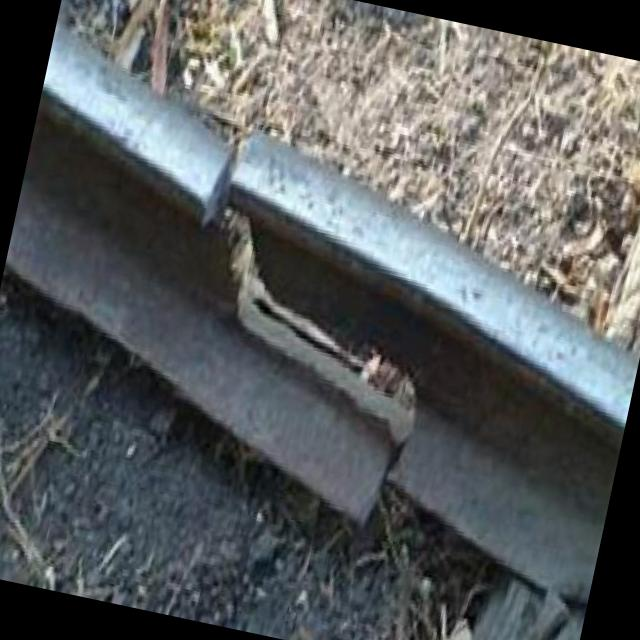defective: (0, 16, 610, 640)
